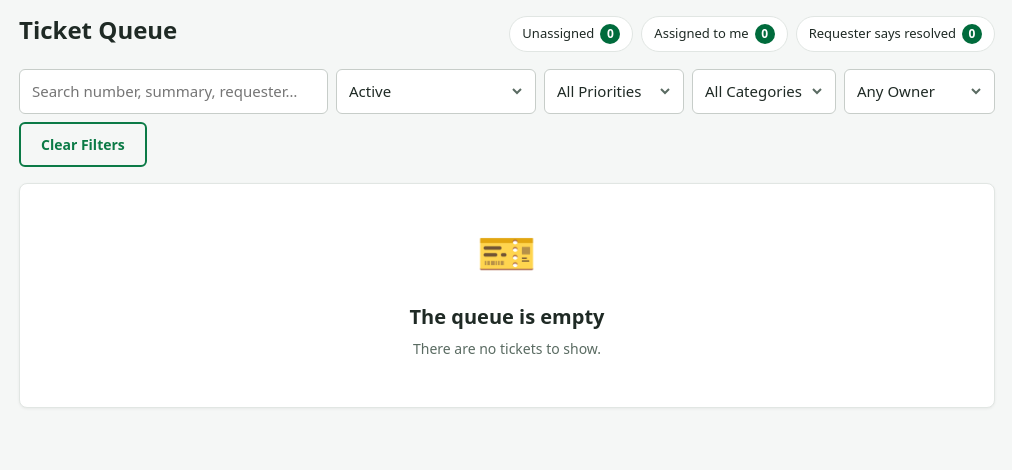
Test case: UI-14: Queue states › UI-14: no-results state with Clear Filters when a filter matches nothing (AC-40)
Check: the element with test id "empty-state" is shown, box [19,183,995,408]
Type "zzz" into the search field named "search tickets". click: (174, 91)
box: [19,69,328,114]
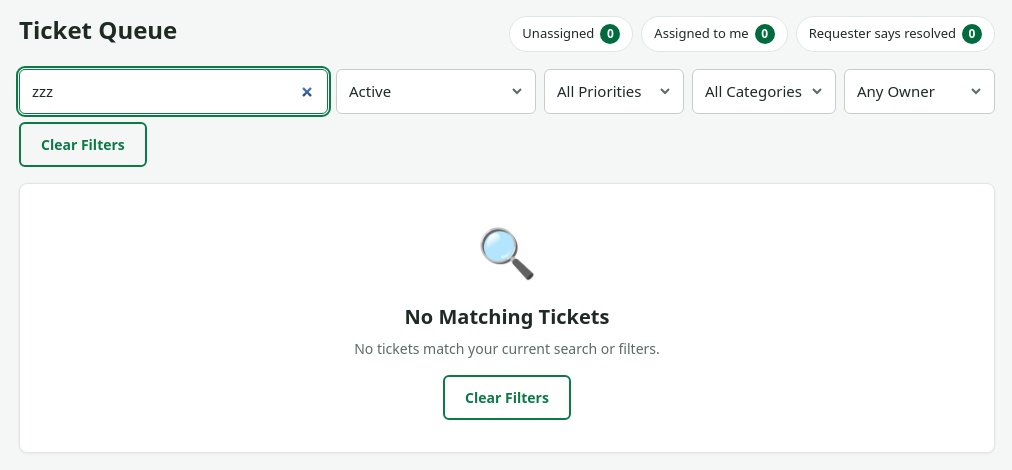
Check: the button "Clear Filters" below "No Matching Tickets" is shown, box [443,375,571,420]
Check: the element with test id "empty-state" is gone
